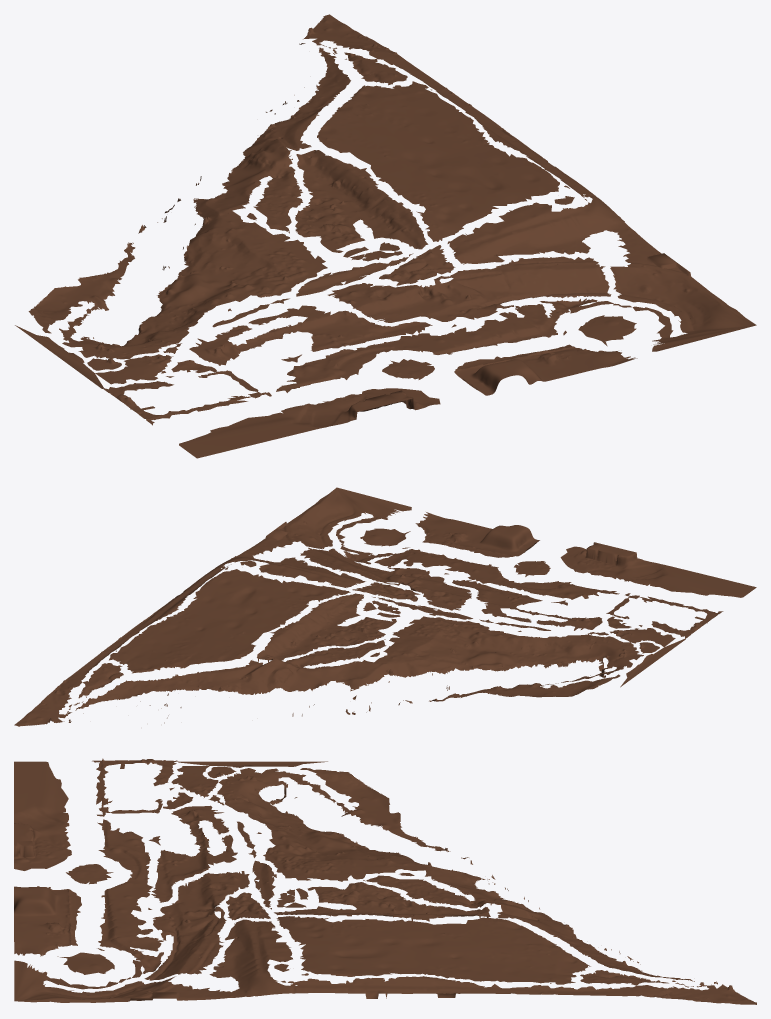
File: OffRoad.fbx
3 renders of one model, top to bottom at view 1: azimuth 30°, elevation 25°; view 2: azimuth 150°, elevation 25°; view 3: azimuth 270°, elevation 25°, orthographic. The views are drawn at different scales.
Visible parts, largest first — view 1: a1Map; view 2: a1Map; view 3: a1Map.
Part boxes in pixels (x1,y1,x2,y2): a1Map: (15,14,756,458); a1Map: (14,487,756,726); a1Map: (14,758,756,1004).
Bounding box in the file's own units: 32338 × 2288 × 42776.
